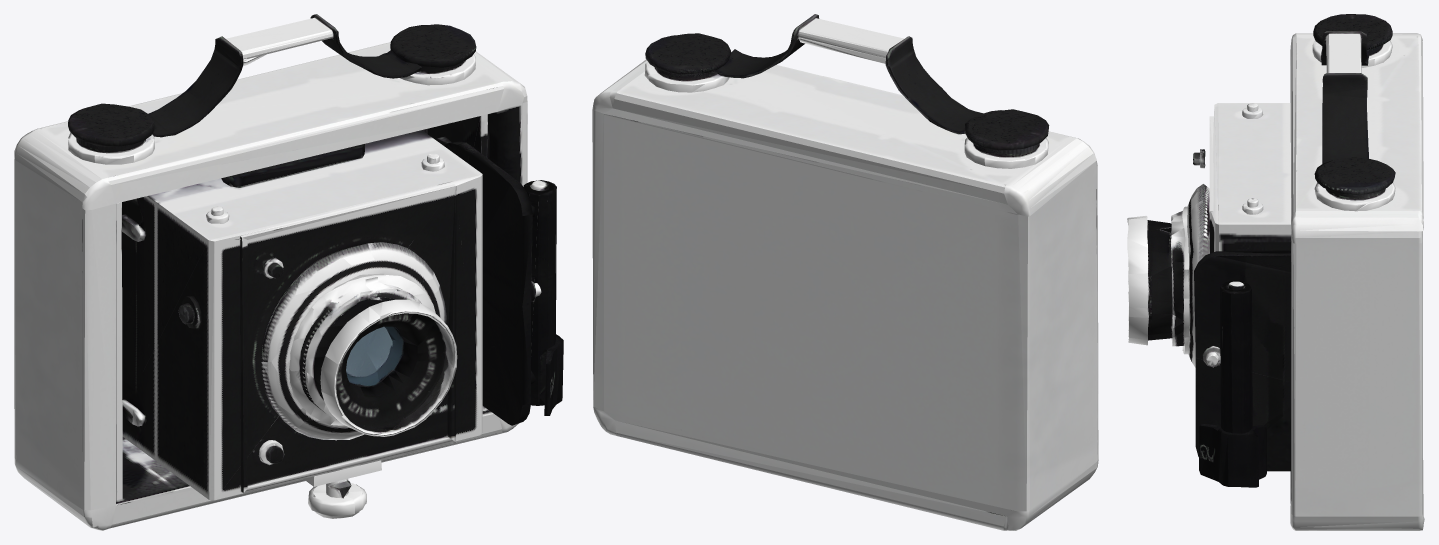
Rendered from camera.glb.
3 renders of one model, left to right at view 1: azimuth 30°, elevation 25°; view 2: azimuth 150°, elevation 25°; view 3: azimuth 270°, elevation 25°, orthographic. The views are drawn at different scales.
Bounding box in the file's own units: 1 × 0.9258 × 0.6406.
Materials: 1 (1 with a texture image).
